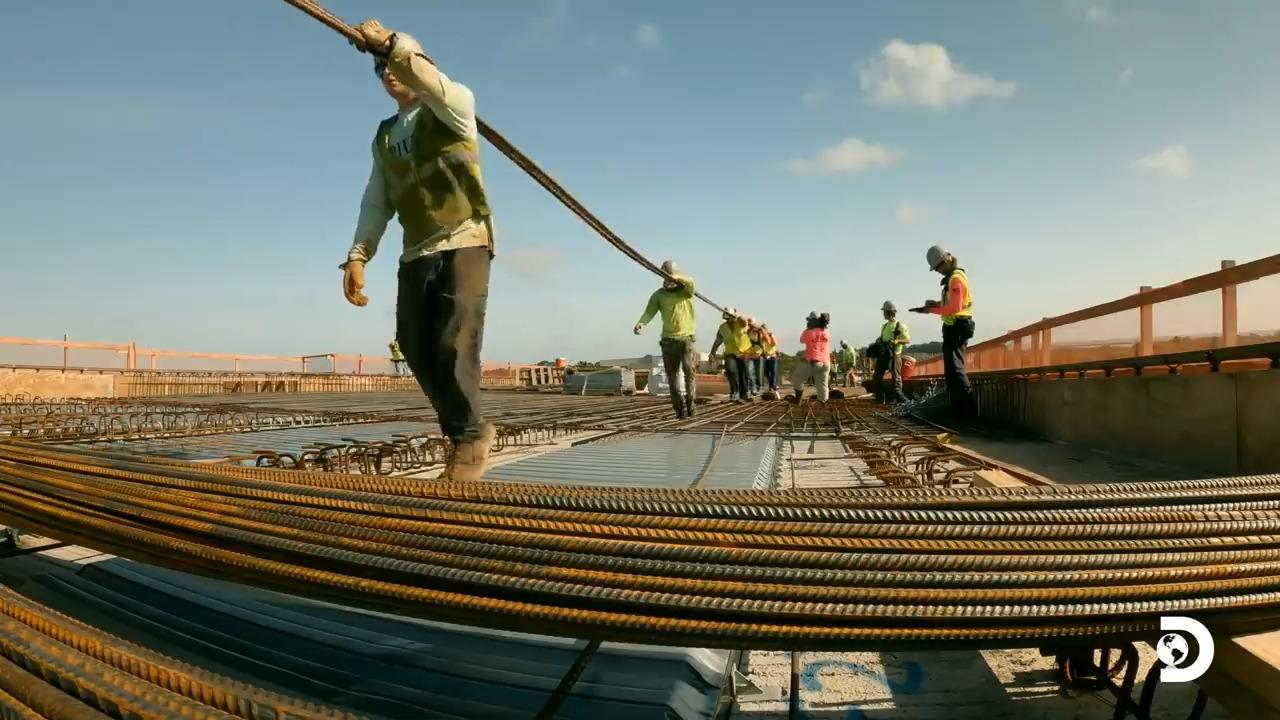Gloves: (341, 253, 369, 304), (351, 22, 381, 47), (725, 329, 750, 356), (632, 321, 645, 334)
Helmet: (368, 23, 434, 74), (926, 244, 949, 271), (660, 258, 683, 277), (716, 304, 738, 320), (881, 300, 897, 312), (808, 311, 822, 320)
Person: (339, 19, 496, 482), (908, 244, 977, 419), (632, 259, 698, 419), (793, 309, 842, 410), (869, 300, 910, 404), (711, 305, 753, 399)
Safety Vest: (383, 152, 480, 228), (943, 279, 973, 316), (879, 326, 904, 353)
no-vest: (664, 298, 696, 337), (808, 331, 829, 358)
